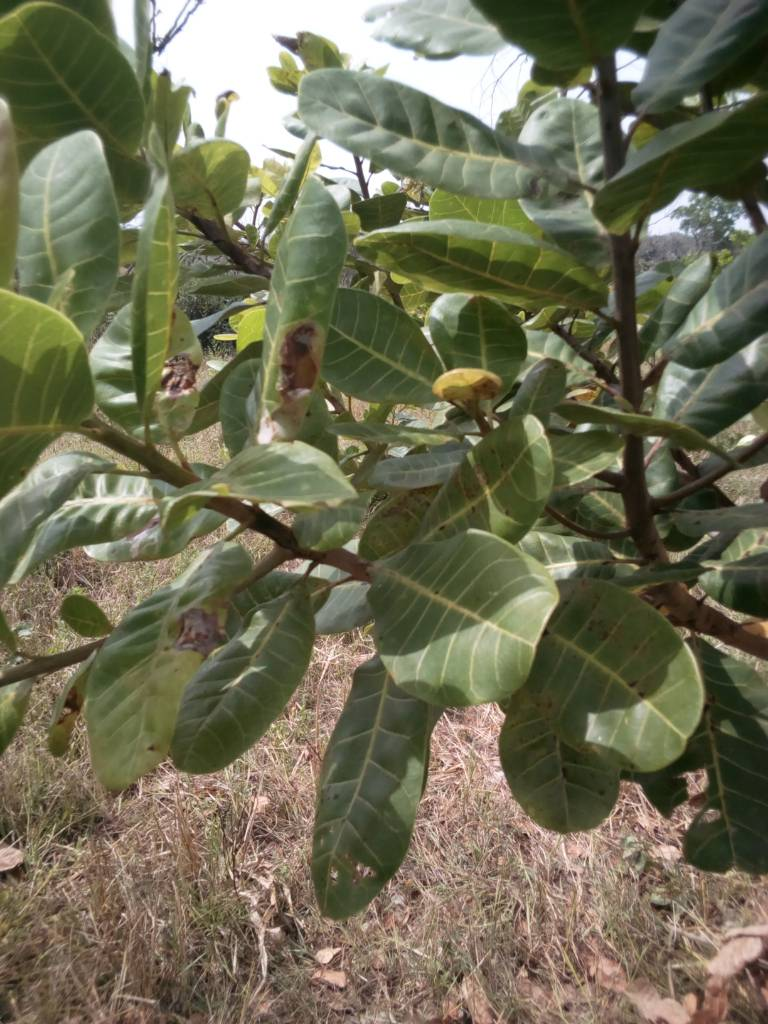Anthracnose: (550, 574, 704, 782), (413, 410, 557, 538)
